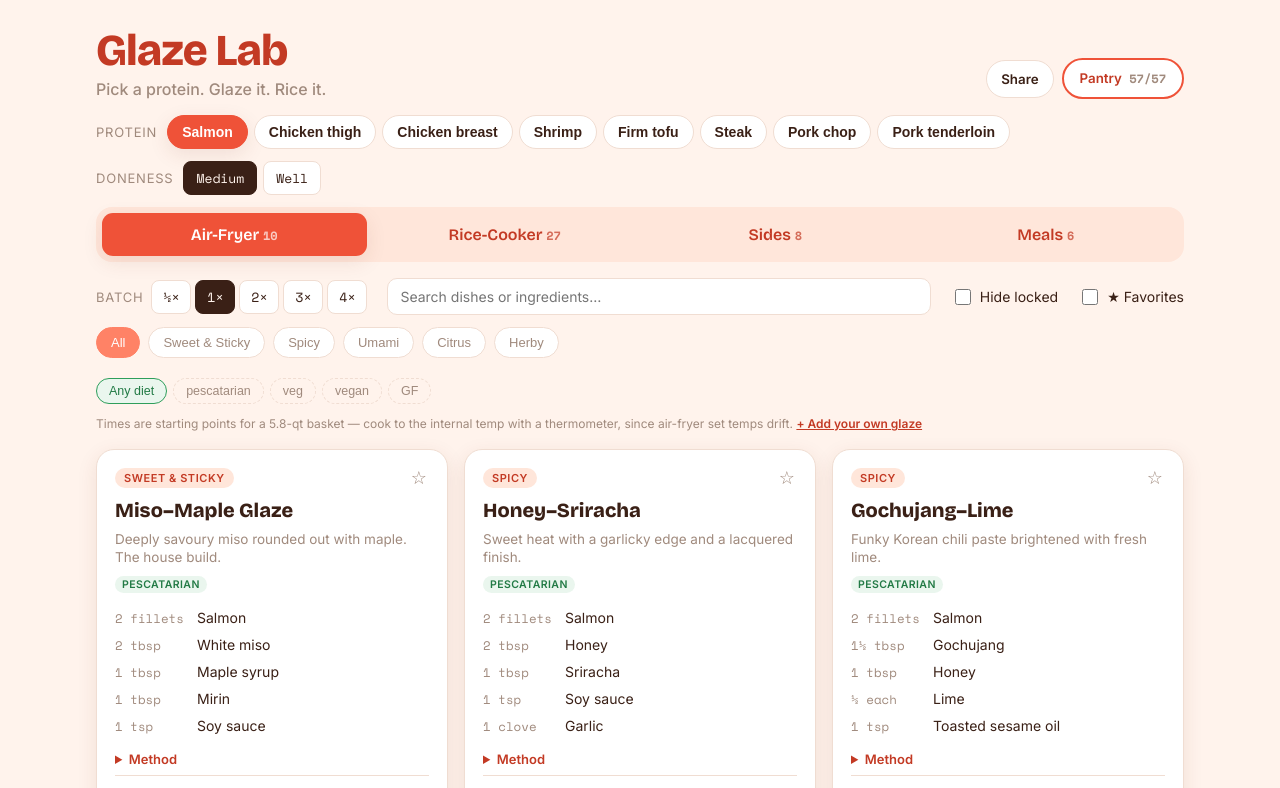
Test: Glaze Lab app › adjusts cook time and target internal via the doneness control
Click the button "Well" at (292, 178), box left=263, top=161, right=321, bottom=195
(page scrolled)
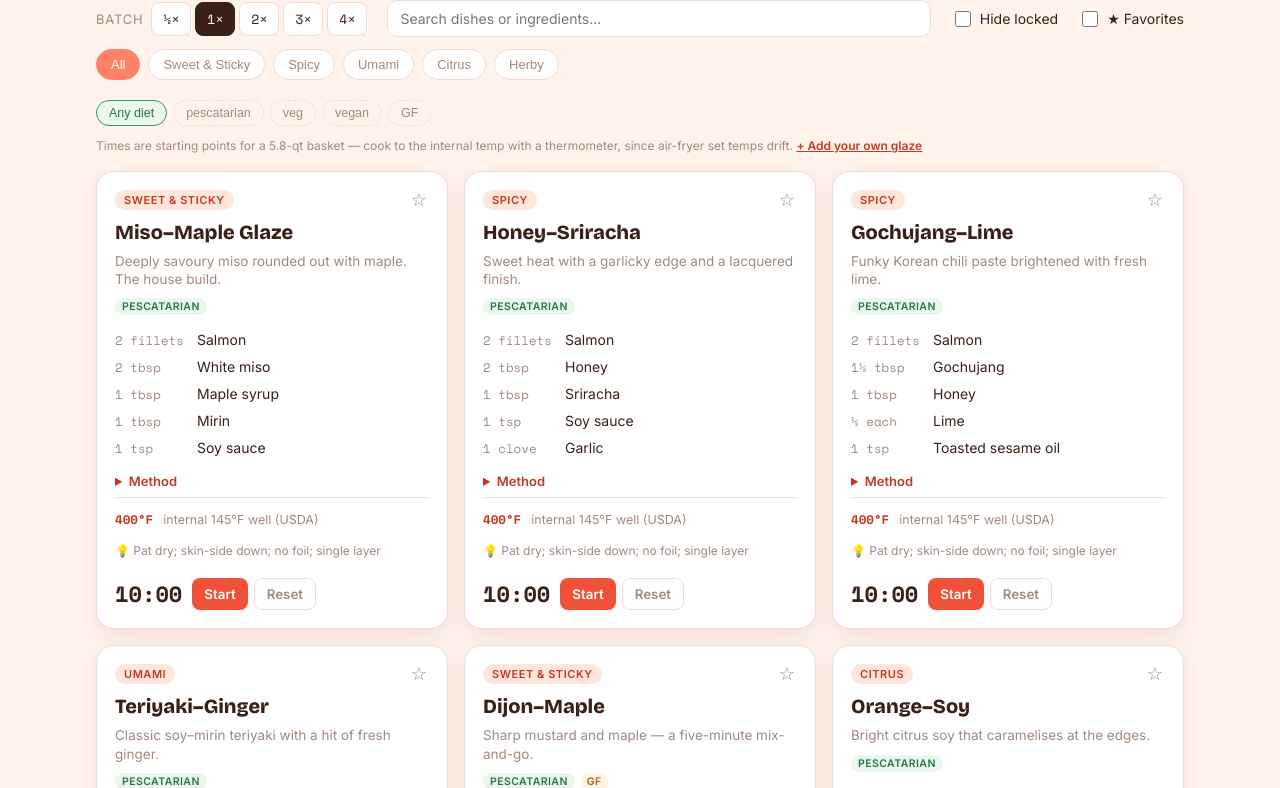
Now the text "10:00" is shown, box left=115, top=577, right=182, bottom=610
Now the text "145°F" is shown, box left=211, top=512, right=318, bottom=527
